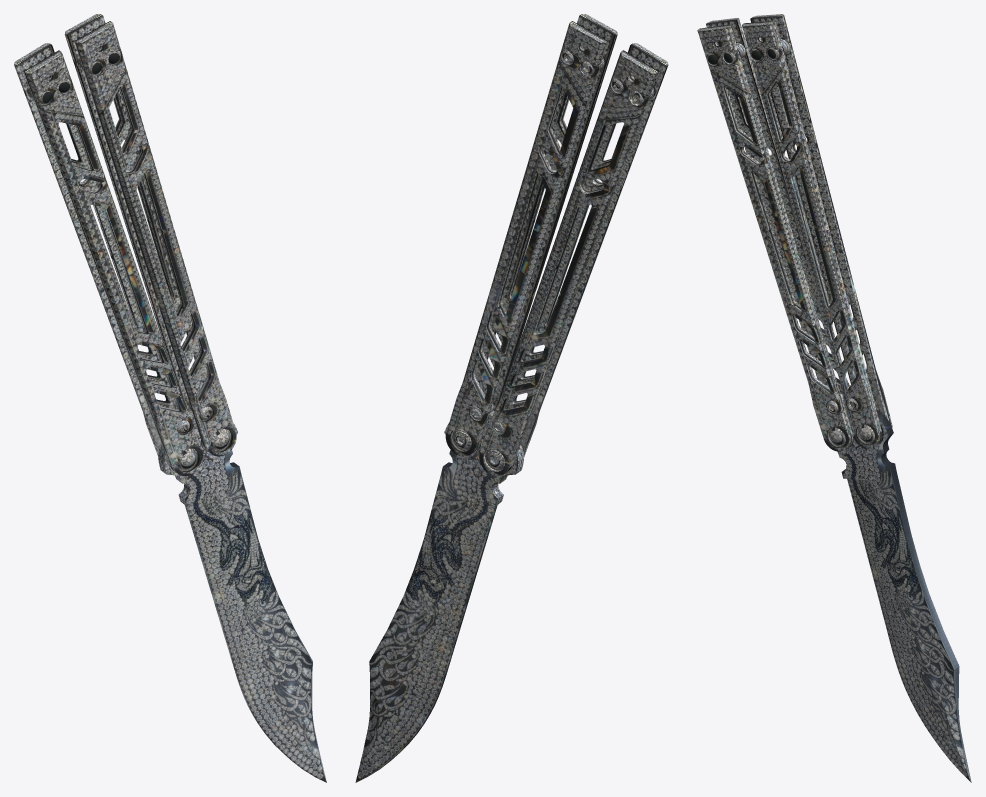
Rendered from _butterflies_knife_diamond.glb.
3 renders of one model, left to right at view 1: azimuth 30°, elevation 25°; view 2: azimuth 150°, elevation 25°; view 3: azimuth 330°, elevation 25°, orthographic. The views are drawn at different scales.
Parts seen in each view (by area): view 1: L0_LOD0_C; view 2: L0_LOD0_C; view 3: L0_LOD0_C.
Part boxes in pixels (x1,y1,x2,y2): L0_LOD0_C: (14, 14, 326, 782); L0_LOD0_C: (355, 14, 668, 782); L0_LOD0_C: (697, 14, 971, 782).
Bounding box in the file's own units: 0.00113 × 0.00289 × 0.000109.
1 material, 1 textured.
